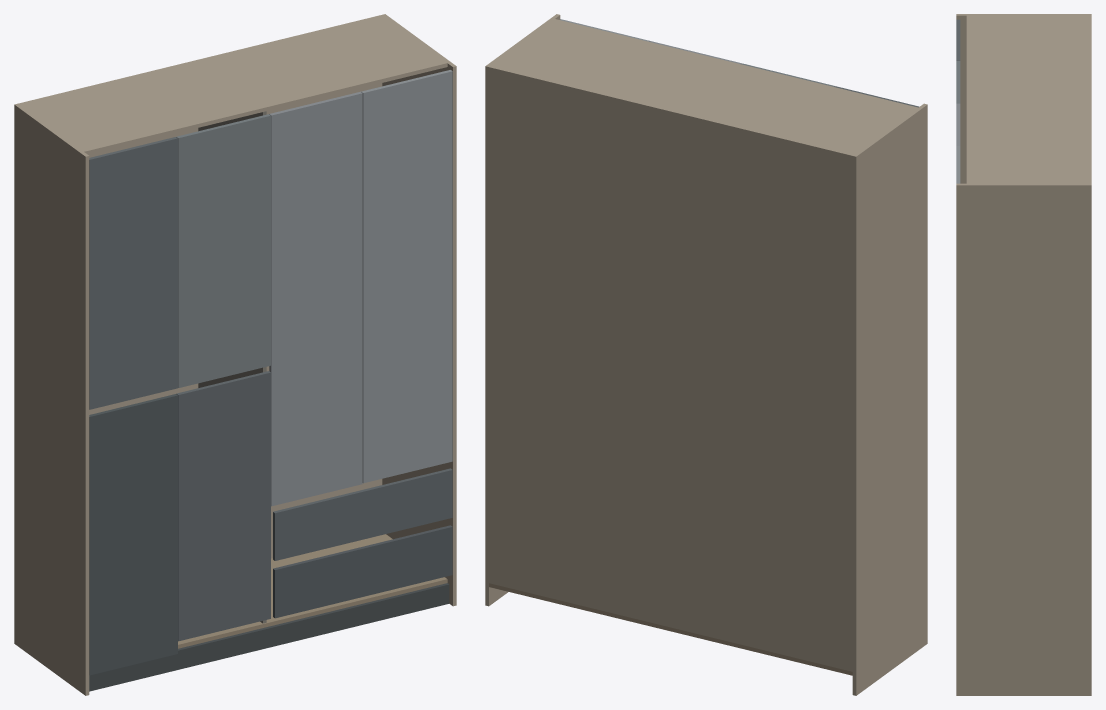
File: divider_wardrobe.glb
3 views of the same model, side by side, from view 1: azimuth 30°, elevation 25°; view 2: azimuth 150°, elevation 25°; view 3: azimuth 270°, elevation 25° (orthographic). The views are drawn at different scales.
Visible parts, largest first — view 1: Left side panel, Inner tall right-bay door, Outer tall right-bay door, Top panel, Upper middle door, Lower left door, Lower middle door, Upper left door, Lower drawer front, Upper drawer front, Recessed front plinth, Right side panel (+3 smaller); view 2: Back panel, Left side panel, Top panel, Right side panel, Bottom panel; view 3: Right side panel, Top panel, Left side panel.
Part boxes in pixels (<box>): Left side panel: <box>14,103,89,695</box>; Inner tall right-bay door: <box>269,91,362,506</box>; Outer tall right-bay door: <box>361,70,452,483</box>; Top panel: <box>18,15,447,154</box>; Upper middle door: <box>176,114,270,387</box>; Lower left door: <box>89,394,177,675</box>; Lower middle door: <box>176,371,270,641</box>; Upper left door: <box>89,137,177,409</box>; Lower drawer front: <box>273,525,452,618</box>; Upper drawer front: <box>273,468,452,560</box>; Recessed front plinth: <box>89,583,449,691</box>; Right side panel: <box>382,14,456,606</box>; Back panel: <box>489,71,852,671</box>; Left side panel: <box>852,103,927,695</box>; Top panel: <box>489,19,917,159</box>; Right side panel: <box>485,14,560,606</box>; Bottom panel: <box>489,583,852,675</box>; Right side panel: <box>956,183,1091,695</box>; Top panel: <box>966,15,1091,183</box>; Left side panel: <box>956,14,1091,183</box>.
Size of the model in its own units: 1.8 by 2.5 by 0.6.
